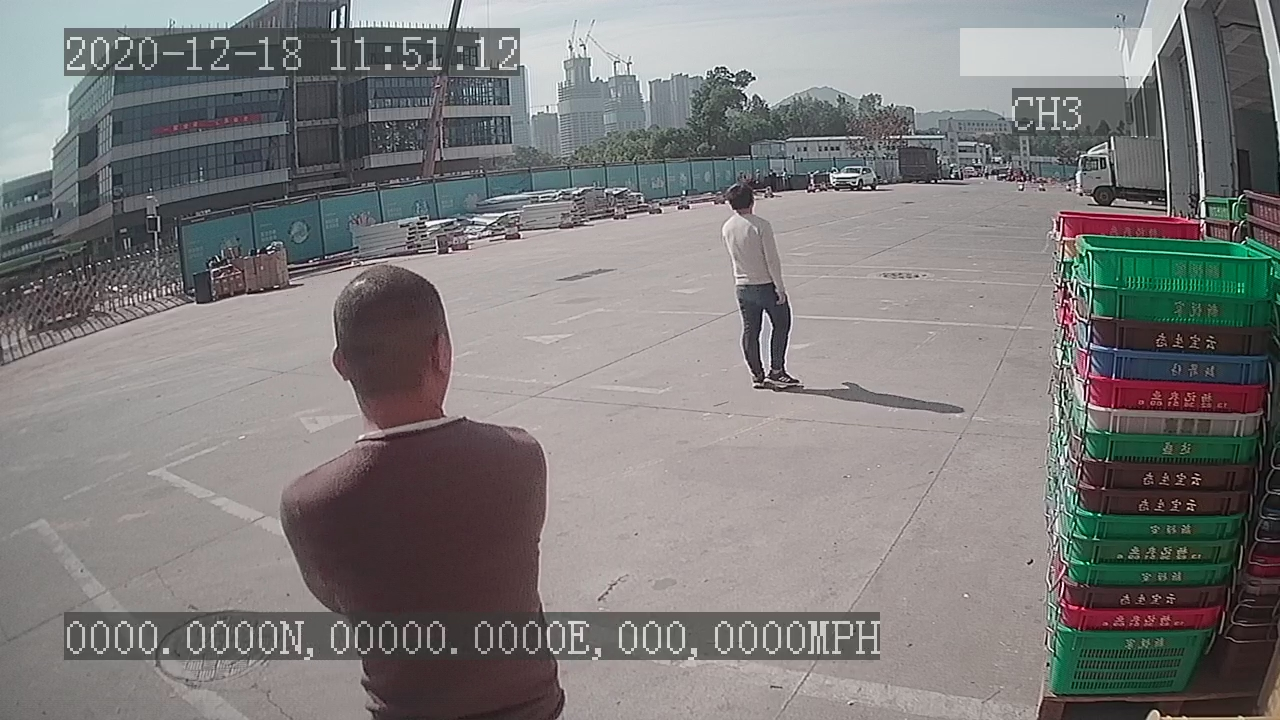person: (711, 177, 811, 397)
